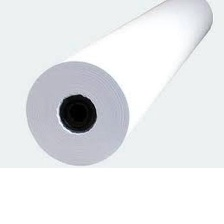tissue: (19, 0, 217, 167)
